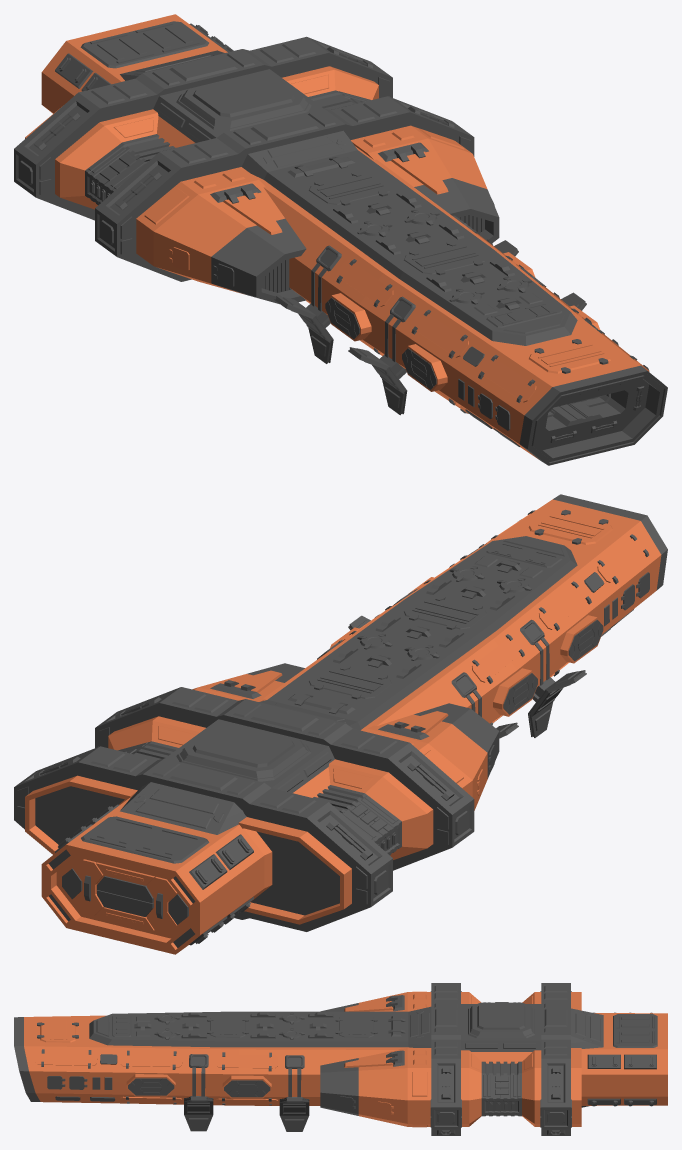
File: CapitalShip_Hull.fbx
3 renders of one model, top to bottom at view 1: azimuth 30°, elevation 25°; view 2: azimuth 150°, elevation 25°; view 3: azimuth 270°, elevation 25°, orthographic. The views are drawn at different scales.
Parts seen in each view (by area): view 1: CapitalShip_Hull; view 2: CapitalShip_Hull; view 3: CapitalShip_Hull.
Part boxes in pixels (left/top/right/bottom): CapitalShip_Hull: left=14, top=14, right=667, bottom=465; CapitalShip_Hull: left=14, top=494, right=667, bottom=954; CapitalShip_Hull: left=14, top=983, right=667, bottom=1135.
Bounding box in the file's own units: 452 × 163 × 1058.
